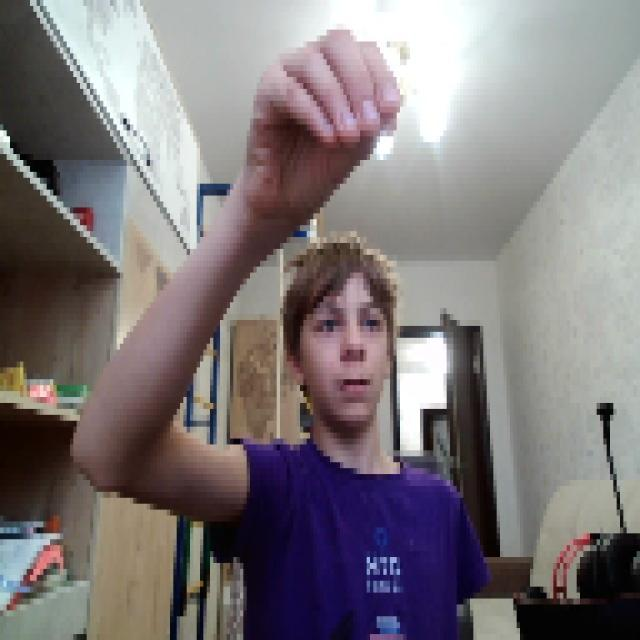left_click: (240, 24, 400, 219)
